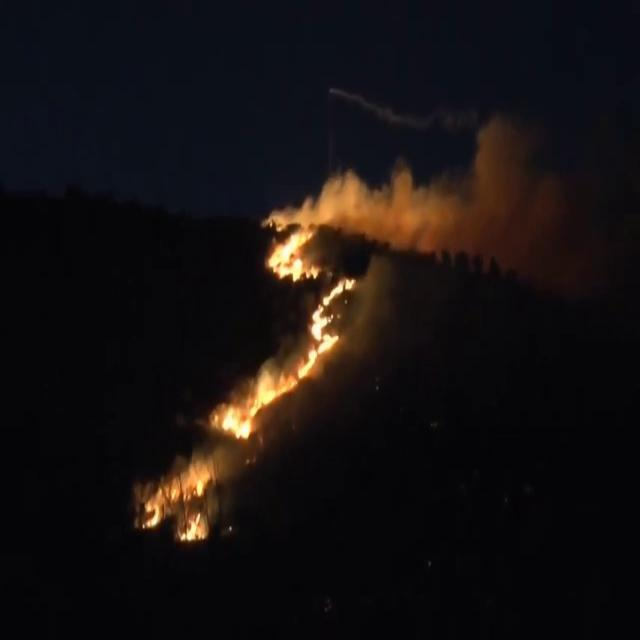Fire: (266, 188, 349, 375), (133, 432, 226, 553), (222, 361, 279, 454)
Smoke: (365, 144, 571, 263)
